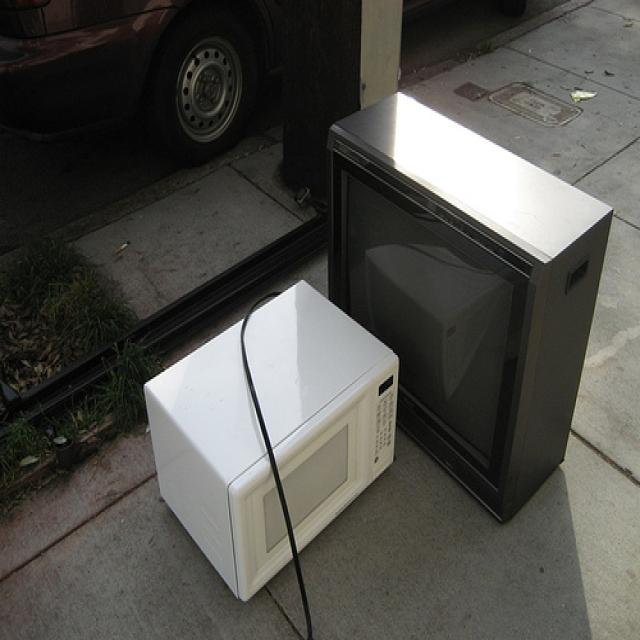Vehicle: (3, 1, 267, 150)
